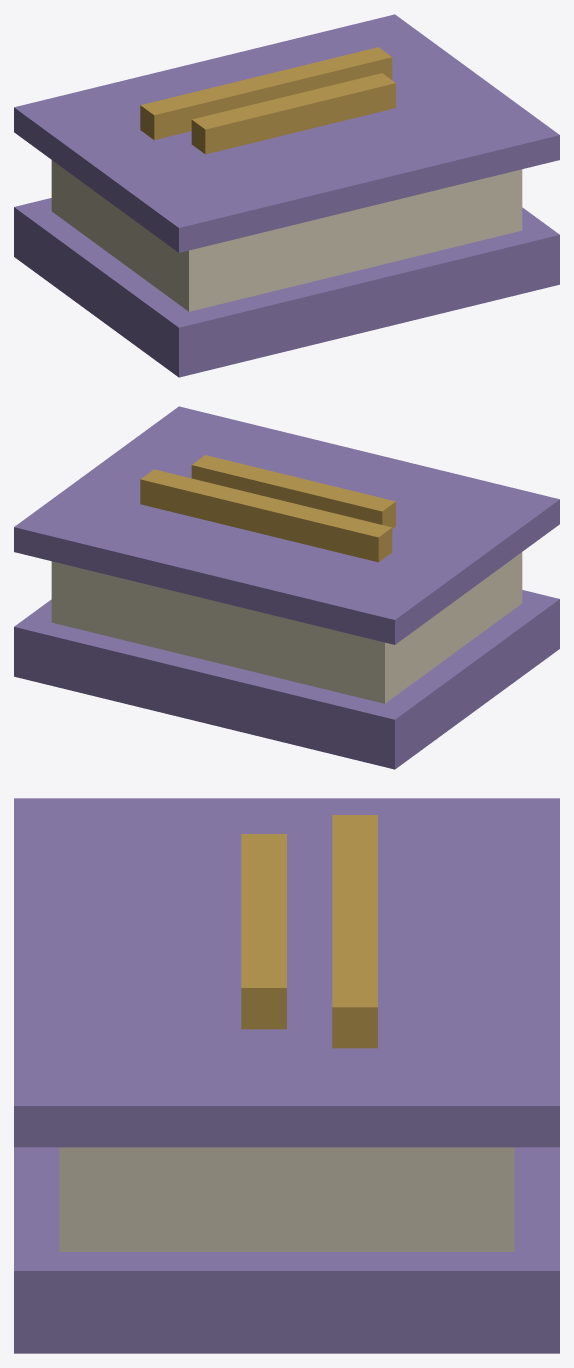
The model's file is software-19.glb.
3 views of the same model, one above another, from view 1: azimuth 30°, elevation 25°; view 2: azimuth 150°, elevation 25°; view 3: azimuth 270°, elevation 25° (orthographic). The views are drawn at different scales.
Visible parts, largest first — view 1: Documentation stack; view 2: Documentation stack; view 3: Documentation stack.
Boxes of the visible parts, left/top/right/bottom form: Documentation stack: left=14, top=14, right=559, bottom=377; Documentation stack: left=14, top=406, right=559, bottom=769; Documentation stack: left=14, top=798, right=559, bottom=1353.
Size of the model in its own units: 1.28 by 0.56 by 0.96.
